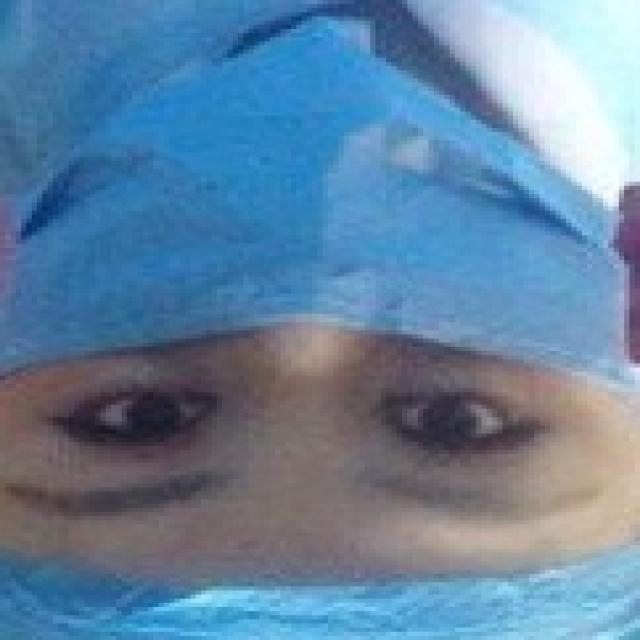mask: (11, 29, 623, 400)
